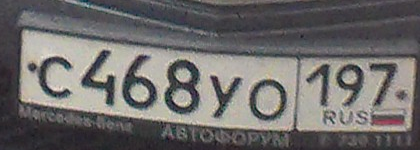character: (119, 51, 161, 115), (163, 56, 202, 117), (80, 48, 118, 107), (247, 77, 290, 125), (37, 55, 74, 102), (207, 74, 243, 122), (335, 60, 365, 111), (368, 62, 399, 111), (306, 61, 331, 111)
